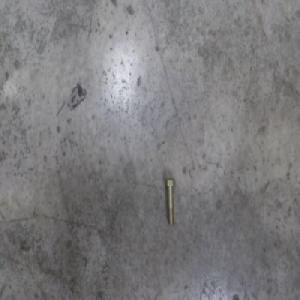Bolt: (164, 176, 175, 225)
